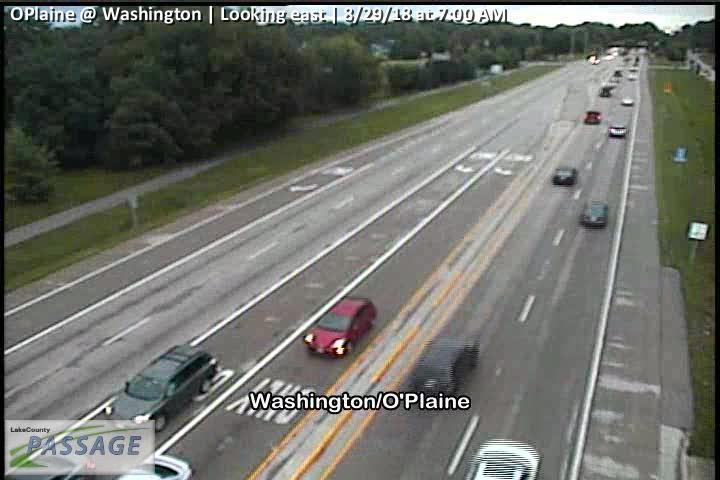SUV: (103, 344, 217, 433)
Sedan: (304, 296, 377, 359), (406, 335, 479, 398), (580, 199, 606, 226), (553, 167, 577, 184), (609, 123, 627, 137), (584, 111, 601, 123), (622, 96, 634, 105)
